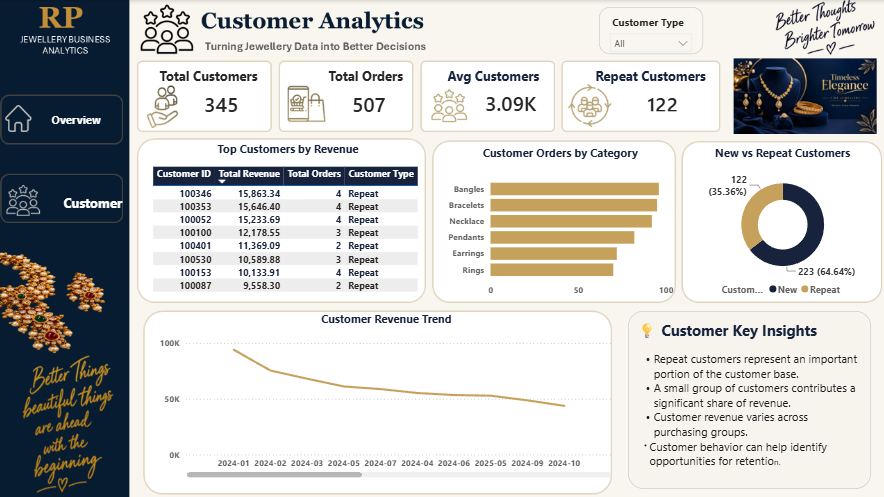

This screenshot's page, from the dashboard's own definition file:
{"tool":"powerbi","page":{"name":"Customer Analytics","canvas":[1280,720],"ordinal":4},"visuals":[{"type":"cardVisual","fields":{"Data":["DateTable.Total Orders"]},"box":[478.1,113.8,112.3,66.2],"z":0},{"type":"cardVisual","fields":{"Data":["DateTable.Total Customers"]},"box":[265,110.9,112.3,74.9],"z":1000},{"type":"cardVisual","fields":{"Data":["DateTable.Avg_customer_spend"]},"box":[669.6,115.2,133.9,63.4],"z":2000},{"type":"cardVisual","fields":{"Data":["DateTable.Repeat_customers"]},"box":[902.9,116.6,109.4,61.9],"z":3000},{"type":"donutChart","title":"New vs Repeat Customers","fields":{"Y":["Count(Jewellry Data.user_id)"],"Category":["Jewellry Data.Customer Type new"]},"box":[974.9,208.8,304.4,226.8],"z":4000},{"type":"lineChart","title":"Customer Revenue Trend","fields":{"Category":["DateTable.Year Month"],"Y":["DateTable.Total Revenue"]},"box":[224.6,447.8,663.8,244.8],"z":5000},{"type":"tableEx","title":"Top Customers by Revenue","fields":{"Values":["Jewellry Data.user_id","DateTable.Total Revenue","DateTable.Total Orders","Jewellry Data.Customer Type new"]},"box":[214.6,203,400.3,227.5],"z":6000},{"type":"clusteredBarChart","title":"Customer Orders by Category","fields":{"Category":["Jewellry Data.category_code"],"Y":["DateTable.Total Orders"]},"box":[639.4,208.8,335.5,227.5],"z":7000},{"type":"textbox","box":[904.3,447.8,349.9,256.3],"z":8000},{"type":"textbox","box":[224.6,92.2,159.8,49],"z":9000},{"type":"textbox","box":[468,92.2,122.4,49],"z":10000},{"type":"textbox","box":[639.4,92.2,157,47.5],"z":11000},{"type":"textbox","box":[852.5,92.2,178.6,49],"z":12000},{"type":"textbox","box":[86.4,275,119.5,34.6],"z":13000},{"type":"textbox","box":[69.1,157,99.4,36],"z":14000},{"type":"actionButton","box":[4.3,146.9,180,66.2],"z":15000},{"type":"slicer","fields":{"Values":["Jewellry Data.Customer Type new"]},"box":[862.6,10.1,149.8,67.7],"z":15001}]}

Visuals, with their boxes in screenshot pixels (x1, y1, x2, y2), scaled from the page's 1280x720 canvas onto the 884x497 screenshot:
cardVisual - DateTable.Total Orders: x1=330 y1=79 x2=408 y2=124
cardVisual - DateTable.Total Customers: x1=183 y1=77 x2=261 y2=128
cardVisual - DateTable.Avg_customer_spend: x1=462 y1=80 x2=555 y2=123
cardVisual - DateTable.Repeat_customers: x1=624 y1=80 x2=699 y2=123
"New vs Repeat Customers" donutChart: x1=673 y1=144 x2=883 y2=301
"Customer Revenue Trend" lineChart: x1=155 y1=309 x2=614 y2=478
"Top Customers by Revenue" tableEx: x1=148 y1=140 x2=425 y2=297
"Customer Orders by Category" clusteredBarChart: x1=442 y1=144 x2=673 y2=301
textbox: x1=625 y1=309 x2=866 y2=486
textbox: x1=155 y1=64 x2=265 y2=97
textbox: x1=323 y1=64 x2=408 y2=97
textbox: x1=442 y1=64 x2=550 y2=96
textbox: x1=589 y1=64 x2=712 y2=97
textbox: x1=60 y1=190 x2=142 y2=214
textbox: x1=48 y1=108 x2=116 y2=133
actionButton: x1=3 y1=101 x2=127 y2=147
slicer - Jewellry Data.Customer Type new: x1=596 y1=7 x2=699 y2=54
